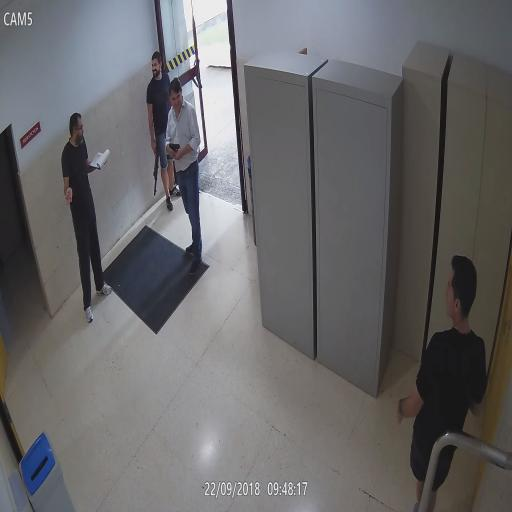Handgun: (168, 142, 180, 158)
